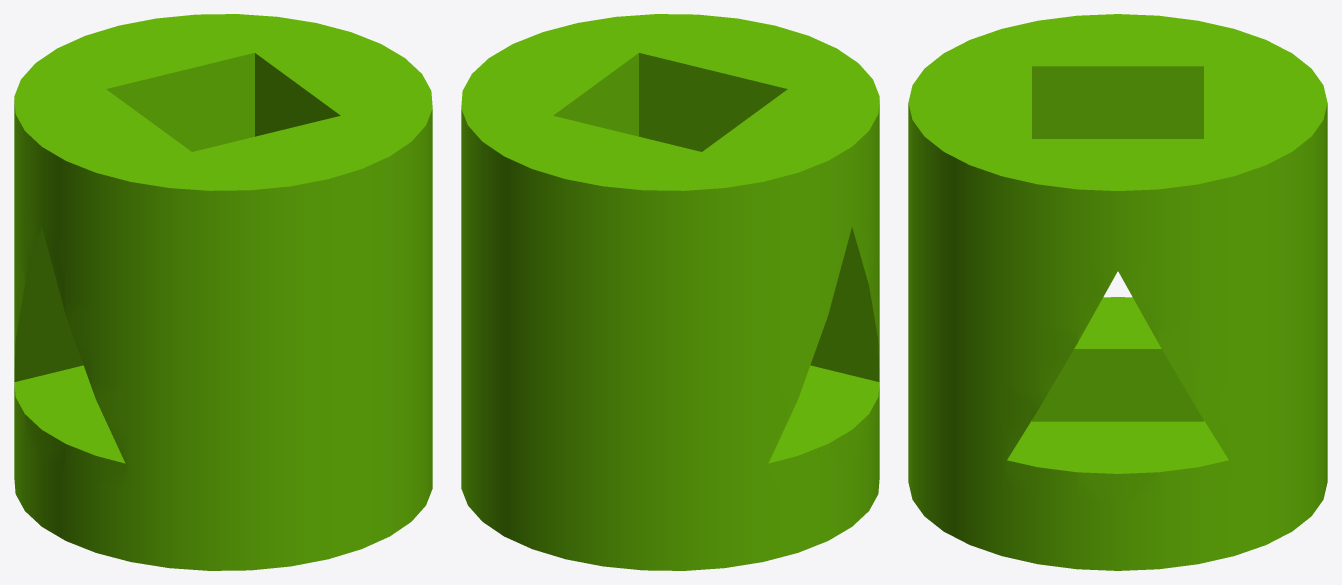
File: var_19.glb
The picture shows the model from 3 angles, left to right: view 1: azimuth 30°, elevation 25°; view 2: azimuth 150°, elevation 25°; view 3: azimuth 270°, elevation 25°; orthographic projection.
Visible parts, largest first — view 1: Cylinder; view 2: Cylinder; view 3: Cylinder.
Part boxes in pixels (x1=…): Cylinder: x1=14, y1=14, x2=432, y2=570; Cylinder: x1=461, y1=14, x2=879, y2=570; Cylinder: x1=908, y1=14, x2=1327, y2=570.
Size of the model in its own units: 2 by 2 by 2.
